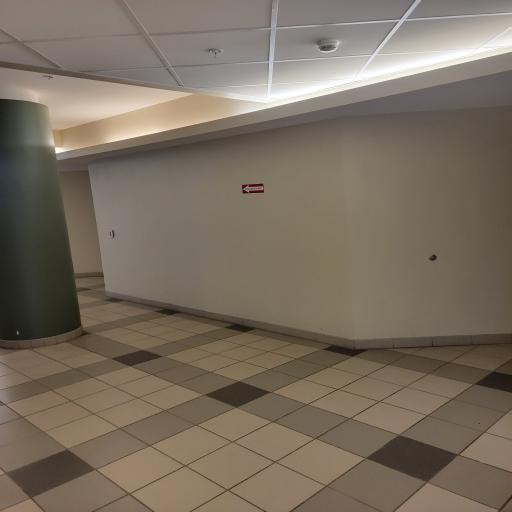fire alarm signal: (314, 36, 356, 58)
